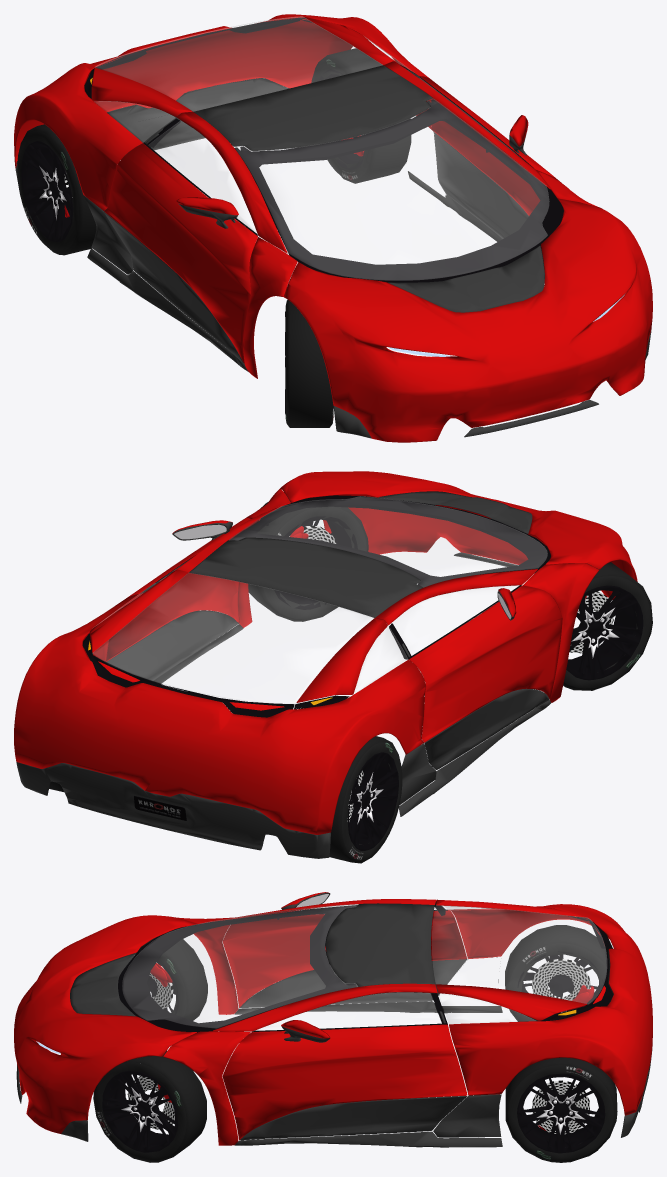
The model's file is concept_lod.glb.
3 views of the same model, one above another, from view 1: azimuth 30°, elevation 25°; view 2: azimuth 150°, elevation 25°; view 3: azimuth 270°, elevation 25° (orthographic). The views are drawn at different scales.
Parts seen in each view (by area): view 1: BodyHood, BodyWindshield, BodyRearPanelsColor1, BodyRearwindow, BodyDoorRColor1, BodyWindshieldGasket, BodyRoofPanel, BodyPanelsColor2, BodyPillars, BodyHoodTopgrill, WheelFrontR, BodyDoorLColor2 (+9 smaller); view 2: BodyRearPanelsColor1, BodyRearwindow, BodyWindshield, BodyPanelsColor2, BodyHood, BodyDoorRColor1, BodyRoofPanel, BodyPillars, BodyWindshieldGasket, WheelFrontRRim, BodyDoorLColor1, BodyDoorLColor2 (+11 smaller); view 3: BodyRearPanelsColor1, BodyWindshield, BodyDoorLColor1, BodyHood, BodyRearwindow, BodyPillars, BodyRoofPanel, BodyPanelsColor2, BodyDoorRColor1, BodyWindshieldGasket, BodyDoorLColor2, WheelFrontL (+17 smaller).
Boxes of the visible parts, x1,y1,x2,y2 form: BodyHood: (284, 198, 652, 442); BodyWindshield: (234, 98, 549, 280); BodyRearPanelsColor1: (14, 14, 435, 211); BodyRearwindow: (95, 16, 382, 111); BodyDoorRColor1: (104, 143, 257, 363); BodyWindshieldGasket: (234, 99, 563, 282); BodyRoofPanel: (194, 65, 432, 150); BodyPanelsColor2: (15, 78, 651, 438); BodyPillars: (176, 61, 598, 378); BodyHoodTopgrill: (388, 245, 544, 312); WheelFrontR: (285, 299, 333, 427); BodyDoorLColor2: (434, 132, 544, 271); BodyRearPanelsColor1: (14, 569, 425, 834); BodyRearwindow: (92, 573, 373, 703); BodyWindshield: (229, 496, 547, 587); BodyPanelsColor2: (16, 552, 550, 858); BodyHood: (278, 471, 637, 599); BodyDoorRColor1: (409, 585, 562, 742); BodyRoofPanel: (189, 537, 422, 617); BodyPillars: (175, 489, 599, 702); BodyWindshieldGasket: (230, 495, 550, 587); WheelFrontRRim: (566, 585, 643, 680); BodyDoorLColor1: (106, 517, 250, 661); BodyDoorLColor2: (107, 610, 238, 680); BodyRearPanelsColor1: (436, 899, 652, 1115); BodyWindshield: (122, 904, 357, 1028); BodyDoorLColor1: (222, 1024, 467, 1139); BodyHood: (14, 915, 196, 1133); BodyRearwindow: (432, 905, 606, 1003); BodyPillars: (163, 899, 437, 1145); BodyRoofPanel: (326, 903, 434, 986); BodyPanelsColor2: (16, 957, 652, 1147); BodyDoorRColor1: (222, 909, 467, 1007); BodyWindshieldGasket: (118, 905, 357, 1032); BodyDoorLColor2: (240, 1096, 467, 1140); WheelFrontL: (93, 1050, 206, 1162).
Size of the model in its own units: 2.54 by 1.15 by 4.36.
Materials: 15 (5 with a texture image).
